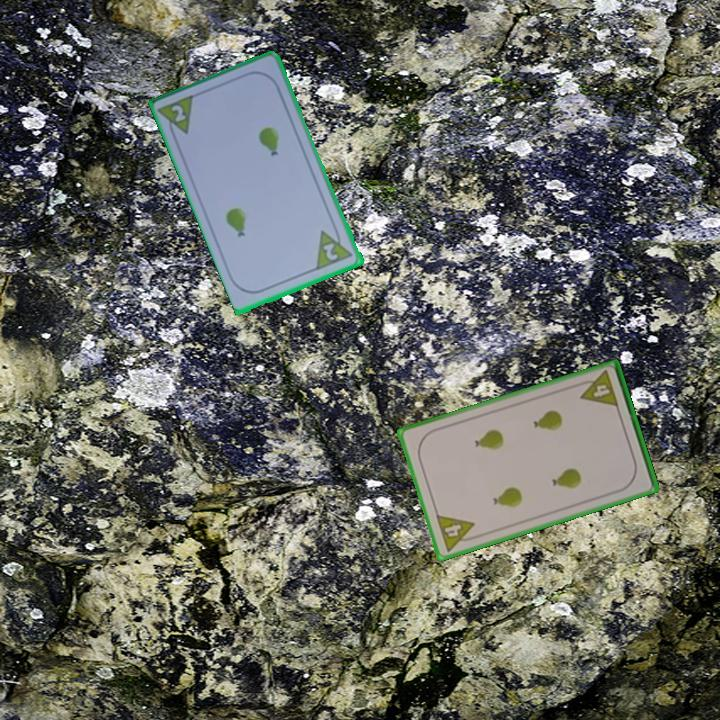2p: (156, 91, 198, 143), (313, 223, 356, 273)
4p: (432, 511, 481, 554), (574, 367, 621, 410)
